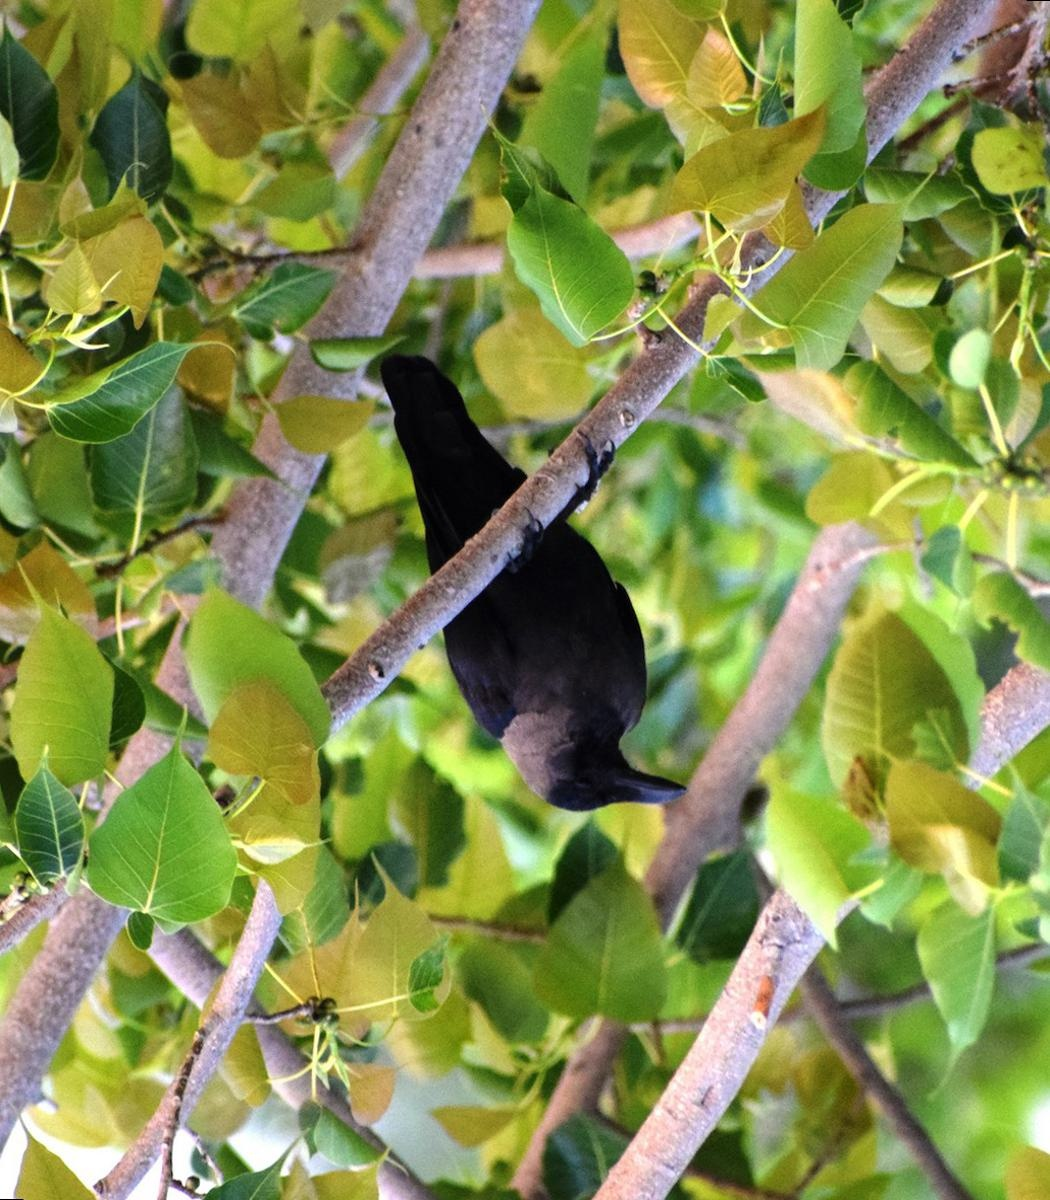crow: (355, 354, 715, 837)
